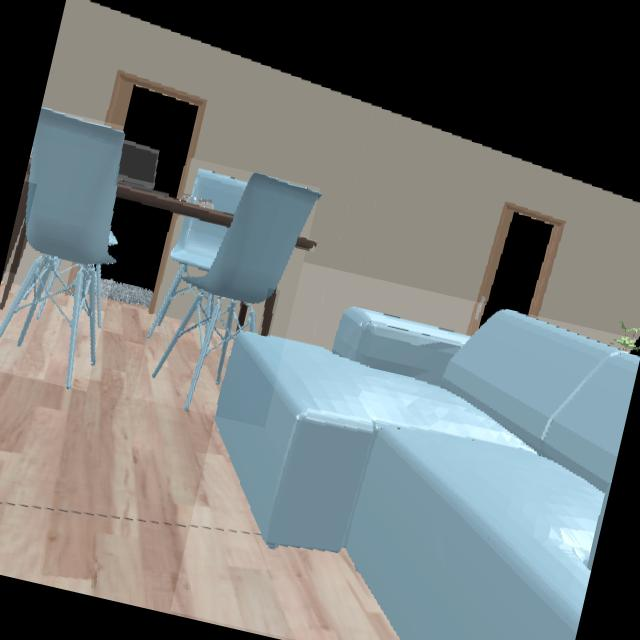chair: (148, 171, 319, 410), (0, 108, 124, 387)
laptop: (117, 141, 167, 197)
sofa: (217, 307, 638, 640)
table: (117, 184, 233, 227), (3, 182, 27, 270), (261, 290, 277, 336), (296, 237, 314, 250), (238, 304, 247, 325)
